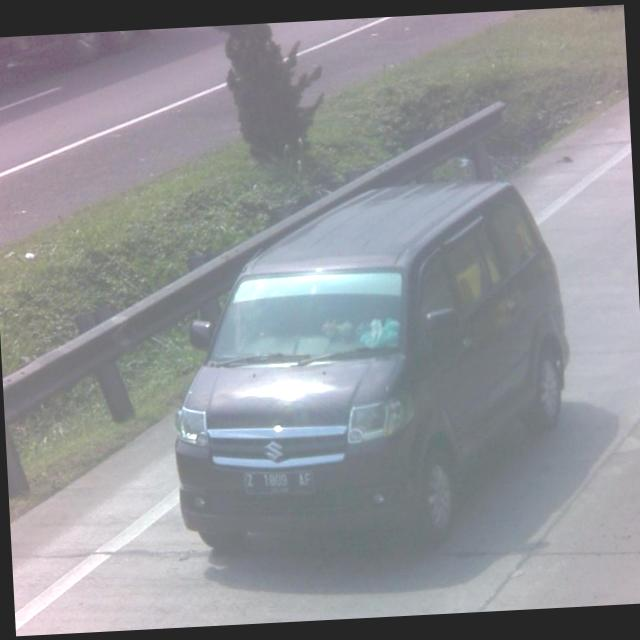plate: (241, 468, 315, 496)
